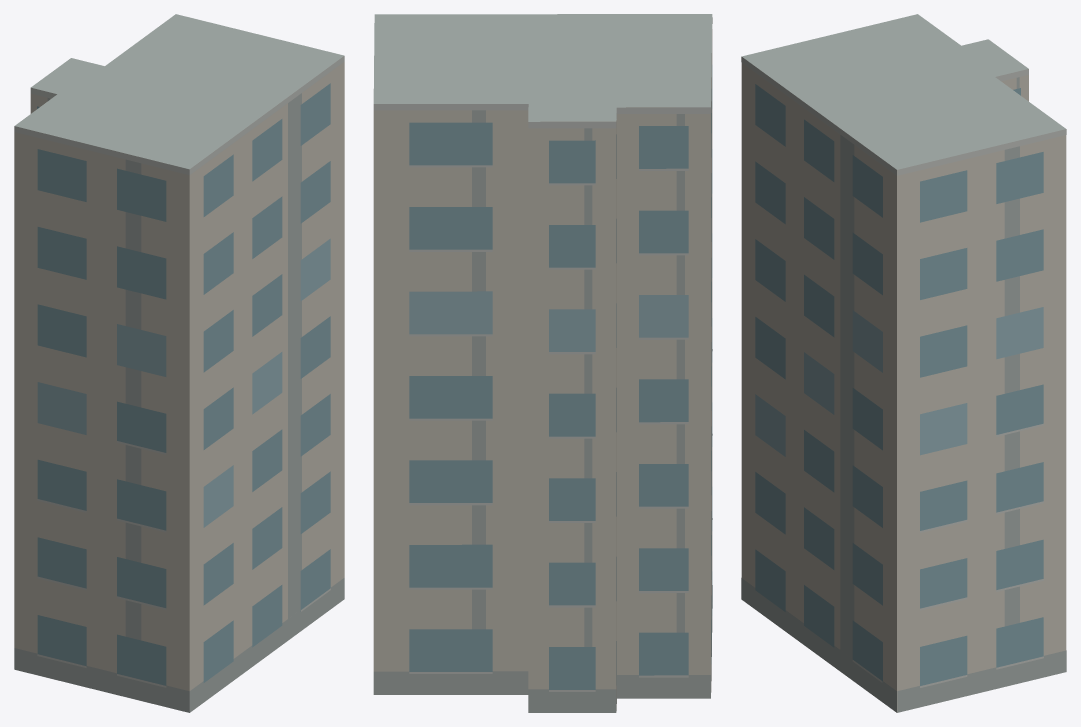
The model's file is survey-upis-32978279.glb.
3 views of the same model, side by side, from view 1: azimuth 30°, elevation 25°; view 2: azimuth 150°, elevation 25°; view 3: azimuth 270°, elevation 25° (orthographic). The views are drawn at different scales.
Parts seen in each view (by area): view 1: survey-upis-32978279.tmp; view 2: survey-upis-32978279.tmp; view 3: survey-upis-32978279.tmp.
Part boxes in pixels (left/top/right/bottom): survey-upis-32978279.tmp: left=14, top=14, right=344, bottom=712; survey-upis-32978279.tmp: left=373, top=14, right=712, bottom=712; survey-upis-32978279.tmp: left=741, top=14, right=1066, bottom=712.
Size of the model in its own units: 13.68 by 22.2 by 12.05.
